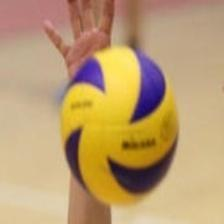Sports-Ball: (54, 43, 191, 214)
